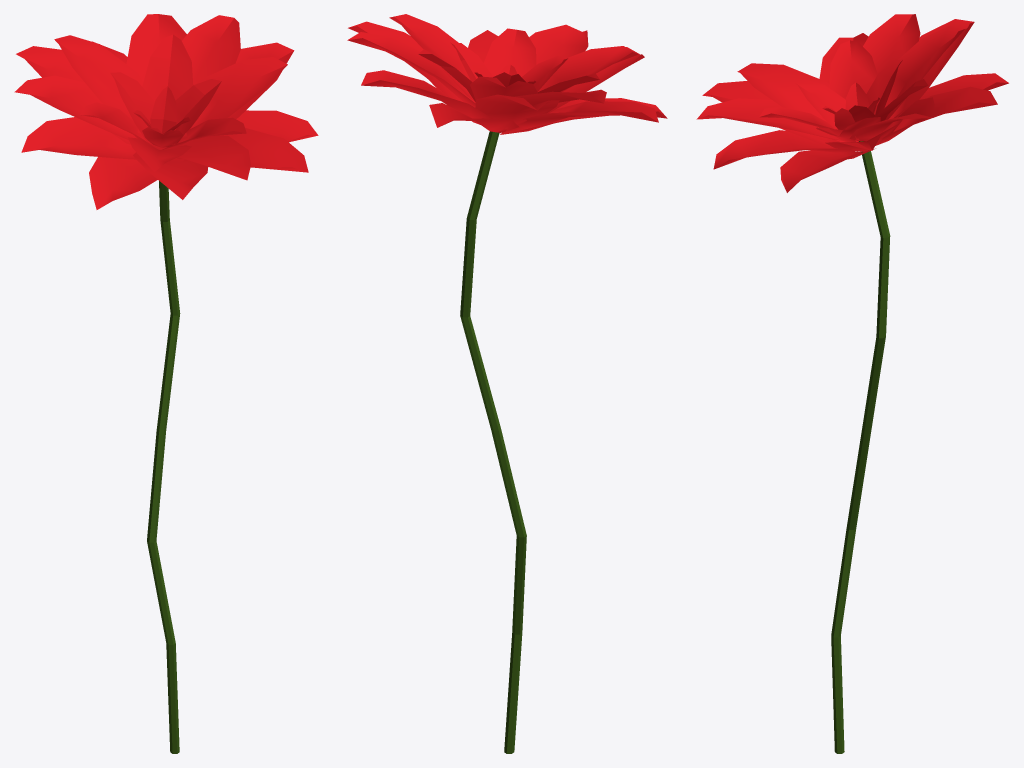
Rendered from bloomingFernFlower.fbx.
3 renders of one model, left to right at view 1: azimuth 30°, elevation 25°; view 2: azimuth 150°, elevation 25°; view 3: azimuth 270°, elevation 25°, orthographic. The views are drawn at different scales.
Visible parts, largest first — view 1: Cylinder; view 2: Cylinder; view 3: Cylinder.
Part boxes in pixels (x1,y1,x2,y2): Cylinder: (14,14,318,753); Cylinder: (347,14,667,753); Cylinder: (696,14,1008,753).
Size of the model in its own units: 48.43 by 112 by 45.68.
